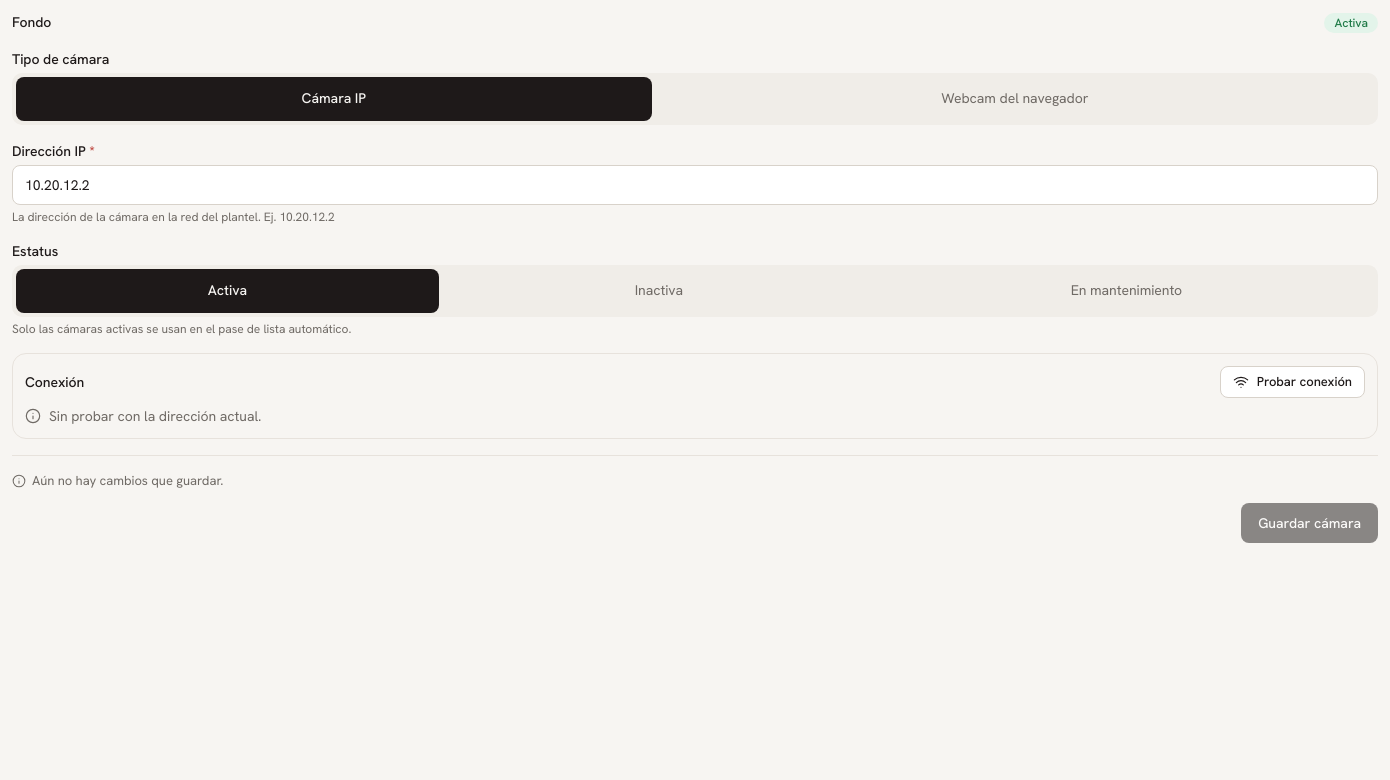
Scenario: CamaraForm › al elegir la webcam del navegador desaparece la IP
The width and height of the screenshot is (1390, 780).
What coordinates should you click on to do the following:
click the radio button labelled "Webcam del navegador"
I would click on:
 (1015, 99)
Its box is [656,77,1374,121].
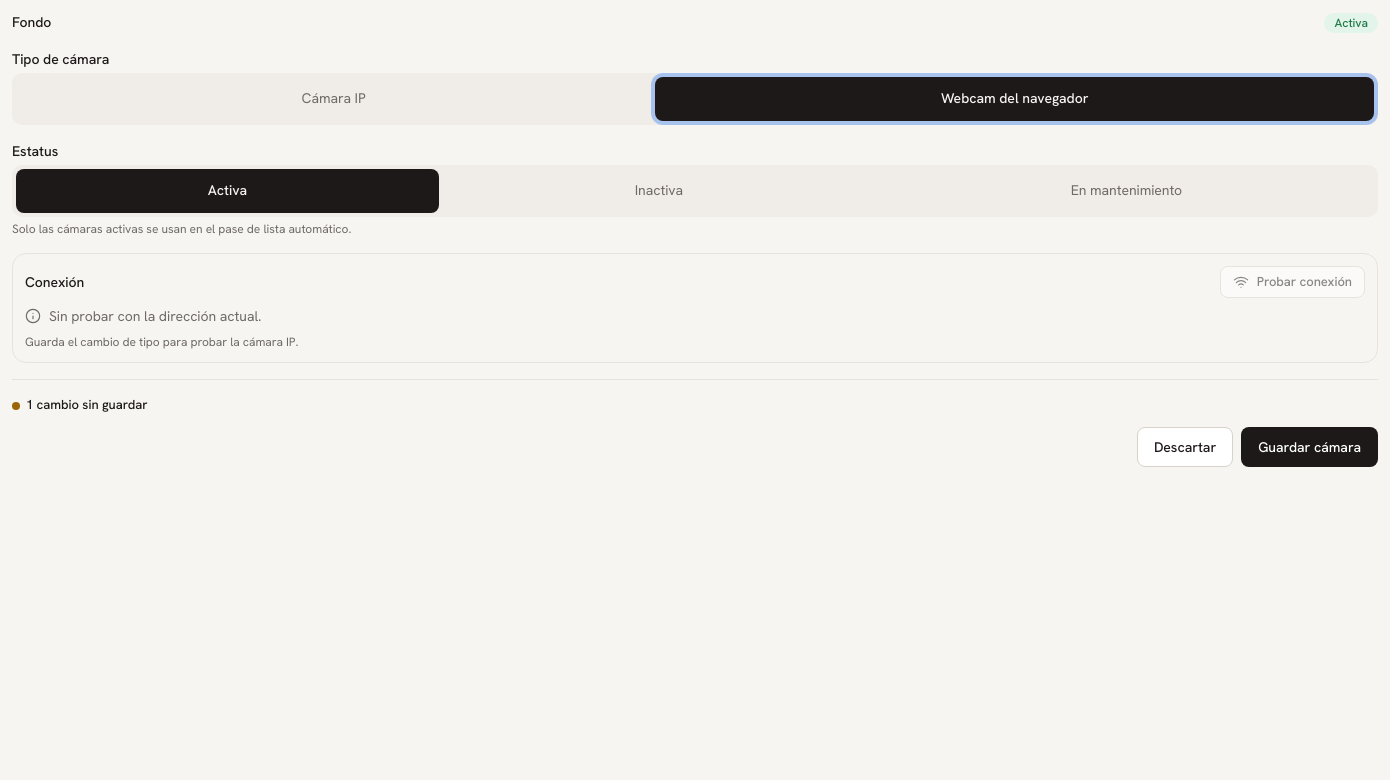
Now the label labelled "Dirección IP" is gone
Now the text "1 cambio sin guardar" is shown, box [26,396,148,415]
